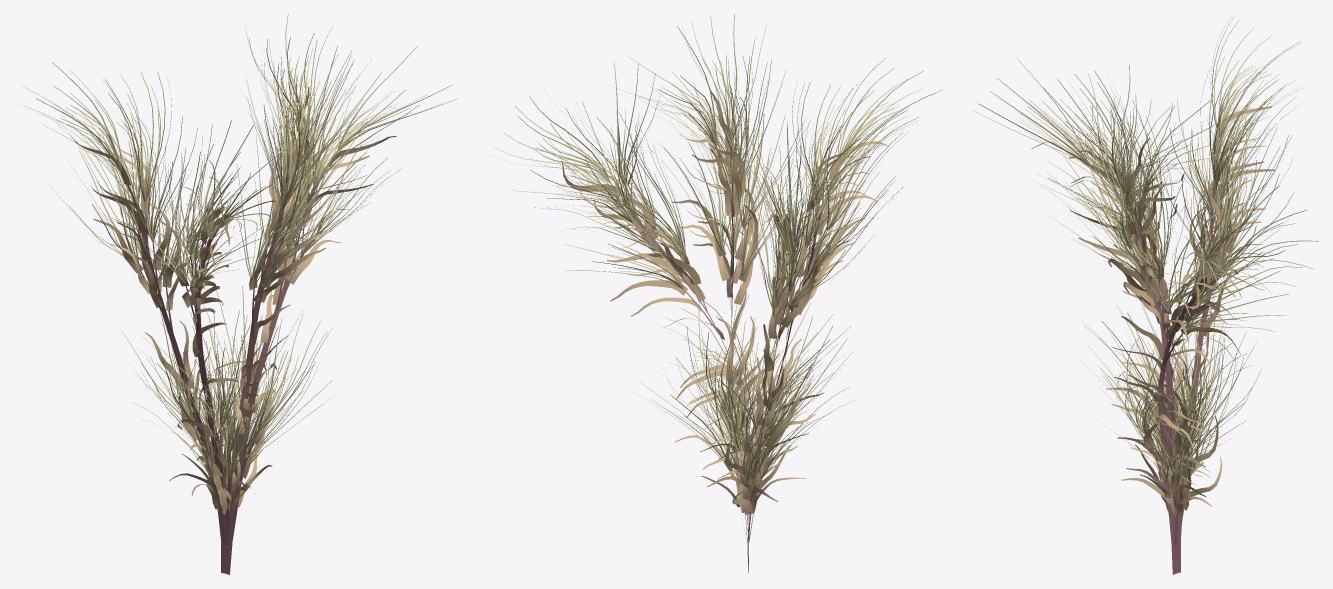
File: TallCactusGrass.fbx
The picture shows the model from 3 angles, left to right: view 1: azimuth 30°, elevation 25°; view 2: azimuth 150°, elevation 25°; view 3: azimuth 270°, elevation 25°; orthographic projection. The views are drawn at different scales.
Parts seen in each view (by area): view 1: cactusGrass1Flower, cactusGrass1Leaf, cactusGrass1Main; view 2: cactusGrass1Flower, cactusGrass1Leaf, cactusGrass1Main; view 3: cactusGrass1Flower, cactusGrass1Leaf, cactusGrass1Main.
Part boxes in pixels (left/top/right/bottom): cactusGrass1Flower: left=22, top=14, right=457, bottom=477; cactusGrass1Leaf: left=71, top=87, right=396, bottom=514; cactusGrass1Main: left=121, top=152, right=333, bottom=574; cactusGrass1Flower: left=490, top=14, right=942, bottom=482; cactusGrass1Leaf: left=562, top=91, right=889, bottom=514; cactusGrass1Main: left=610, top=155, right=838, bottom=573; cactusGrass1Flower: left=972, top=14, right=1318, bottom=485; cactusGrass1Leaf: left=1031, top=106, right=1275, bottom=517; cactusGrass1Main: left=1094, top=149, right=1225, bottom=574.
Bounding box in the file's own units: 44.48 × 55.65 × 33.95.
